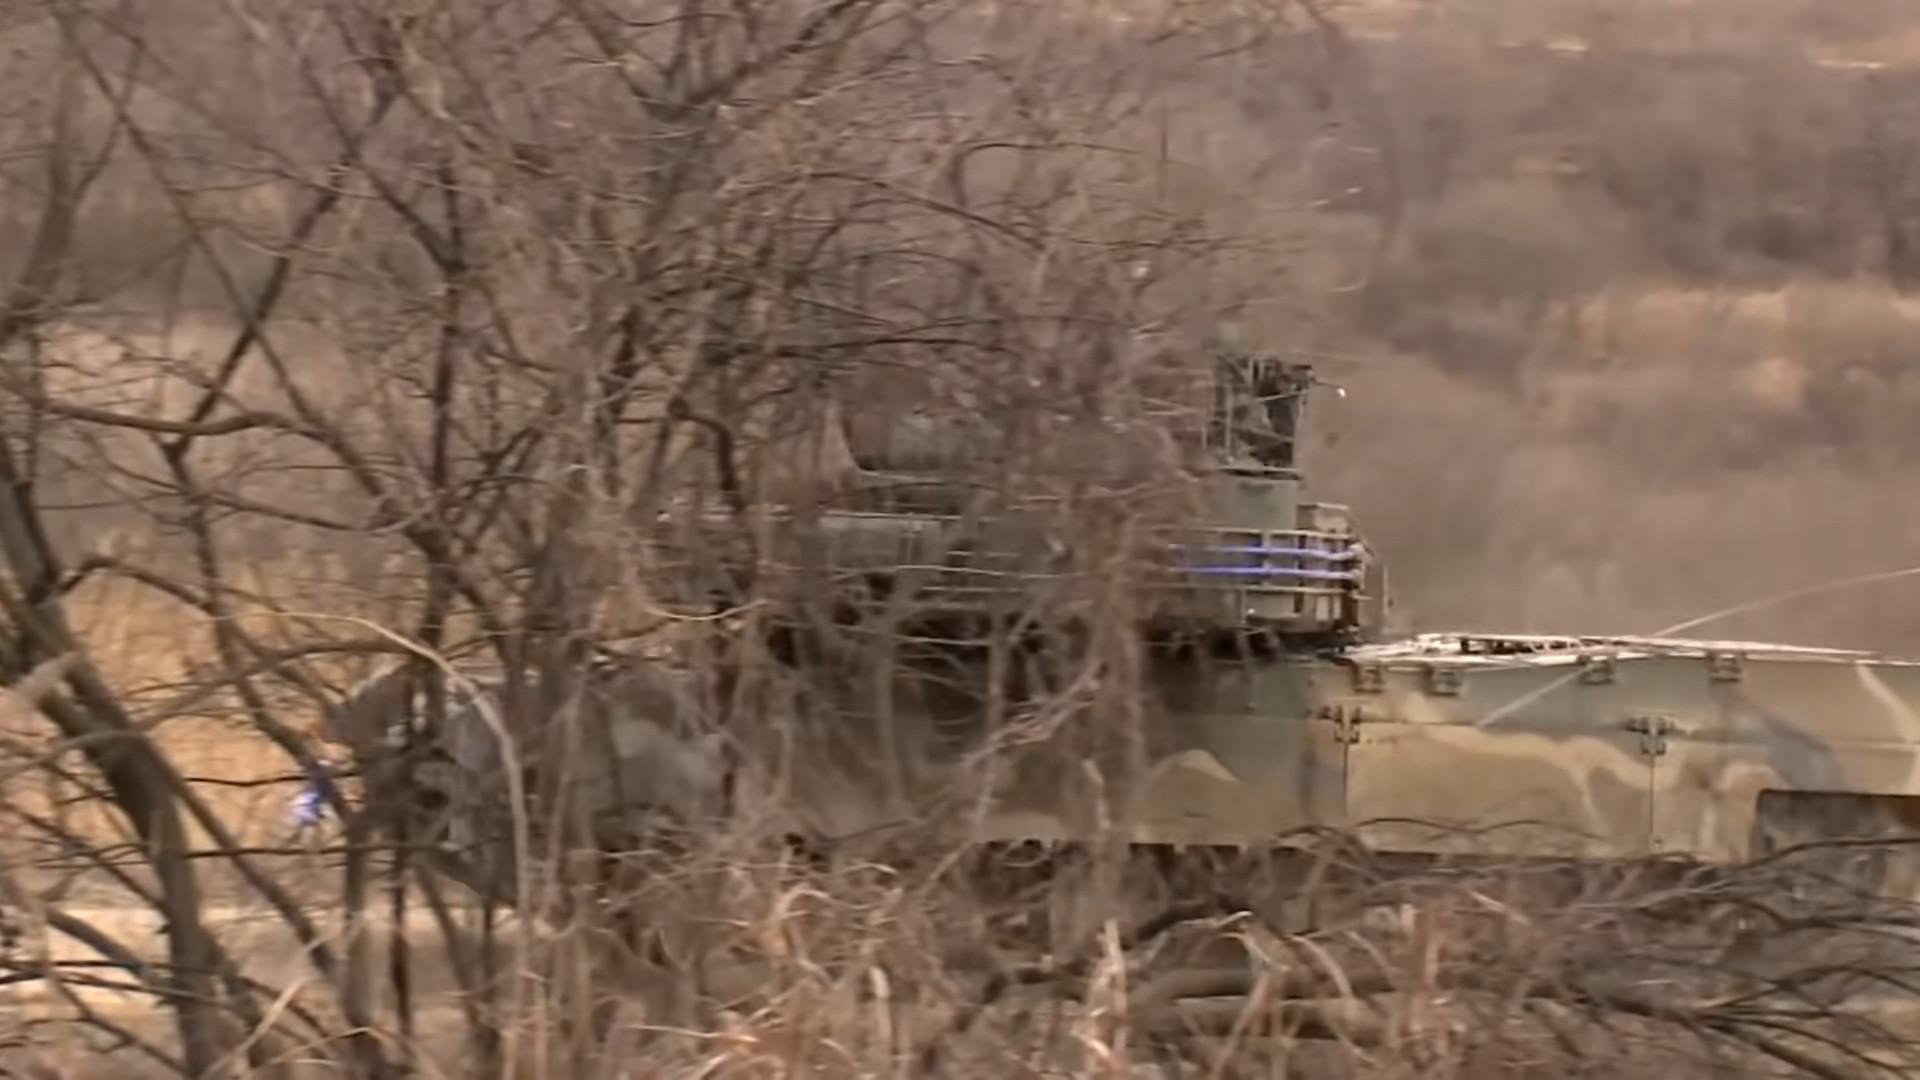tank: (309, 347, 1919, 1018)
